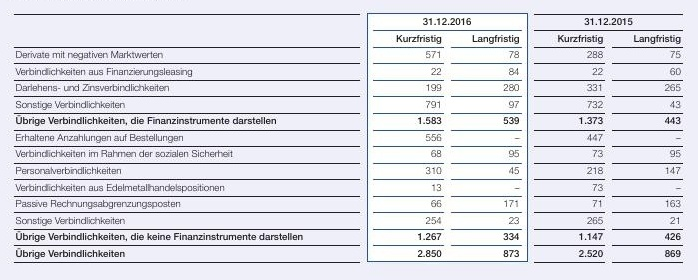table: (0, 0, 698, 280)
